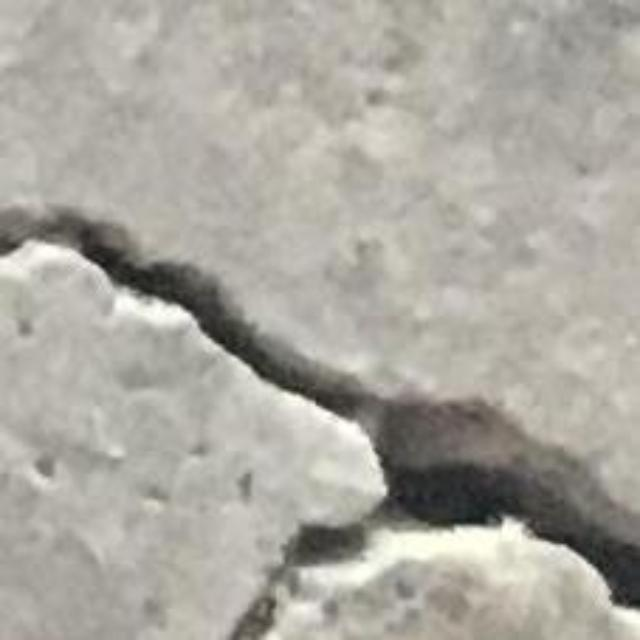crack: (0, 206, 639, 606)
